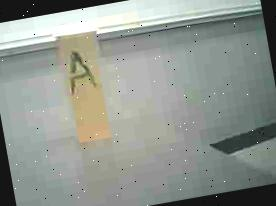Bottle A: (44, 11, 126, 161)
